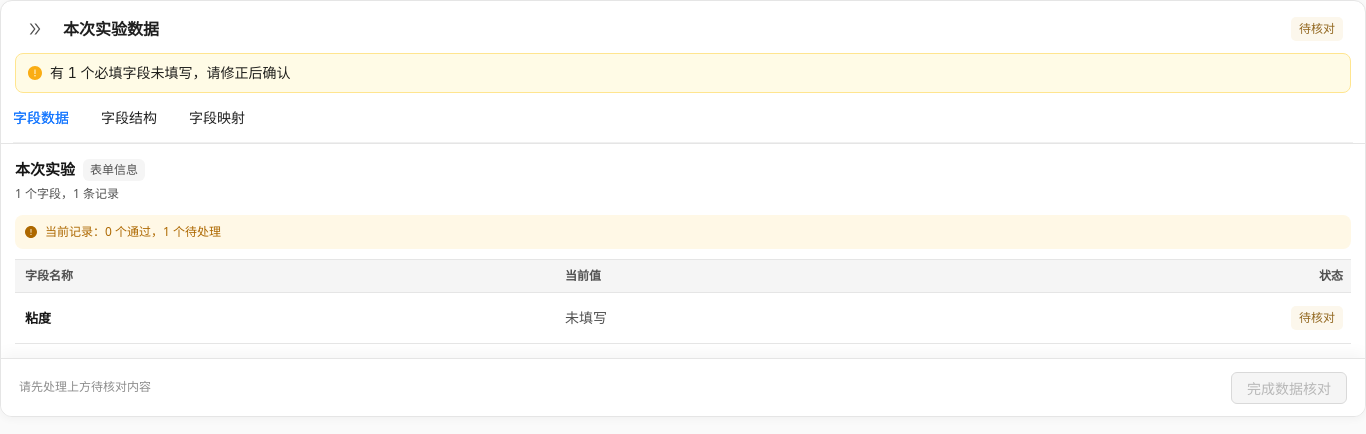
it: ExperimentTemplateDataPanel › keeps the tab bar and field scroll area as separate rows so the footer never covers fields
Click the tab "字段映射" at (217, 118), box x1=189 y1=107 x2=245 y2=129
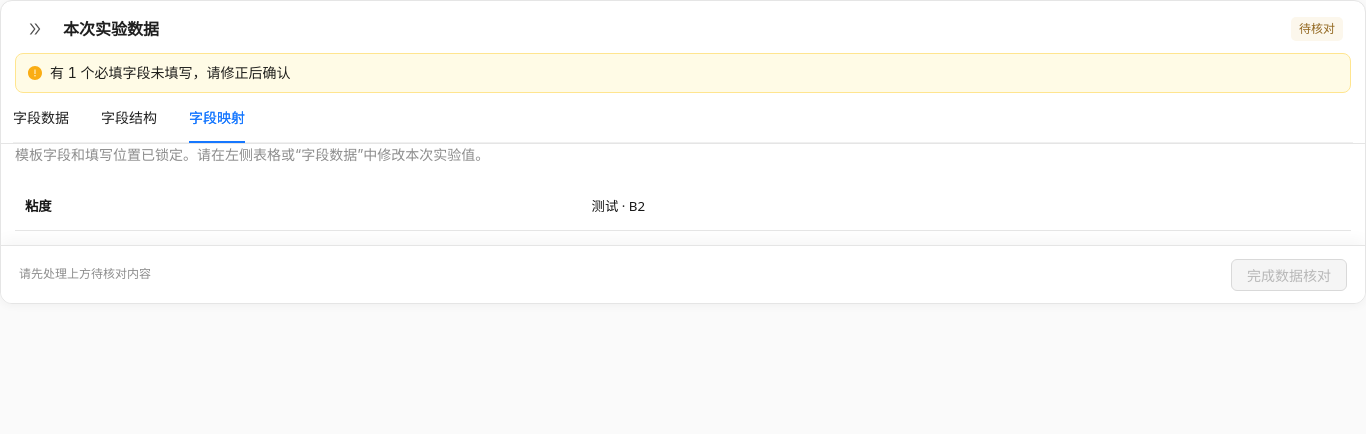
Now the text "模板字段和填写位置已锁定。请在左侧表格或“字段数据”中修改本次实验值。" is shown, box x1=15 y1=146 x2=489 y2=163
